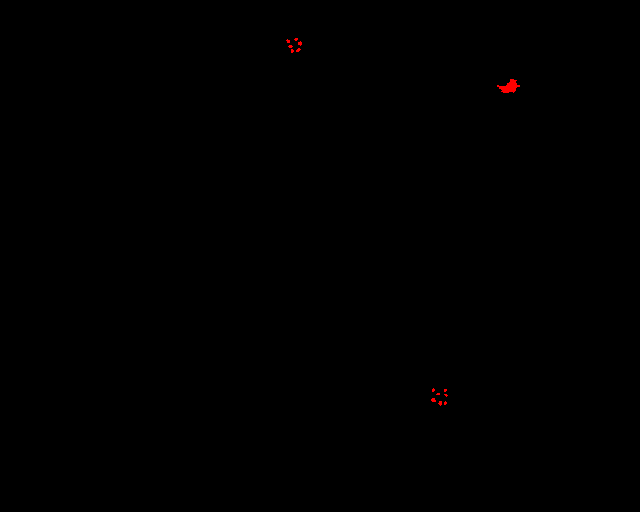Target: (497, 79, 520, 93), (298, 41, 302, 46), (296, 48, 301, 52), (431, 398, 436, 402), (438, 401, 442, 406), (286, 39, 290, 43), (288, 45, 293, 48), (294, 38, 298, 41), (291, 49, 294, 53), (432, 388, 435, 392), (444, 394, 448, 397), (444, 401, 447, 405), (444, 389, 447, 392), (436, 393, 440, 395)
